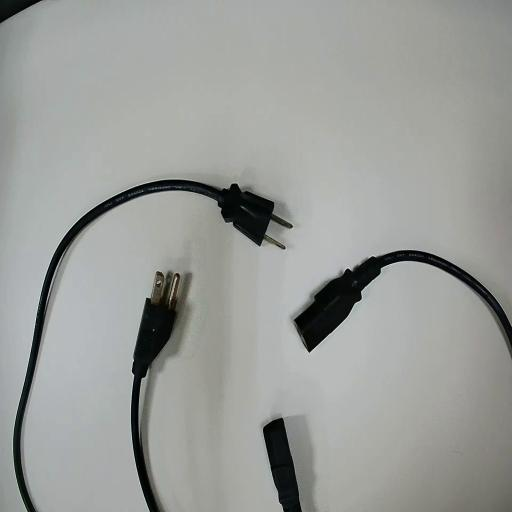wire: (14, 180, 289, 511), (295, 251, 511, 350), (132, 282, 177, 511), (264, 419, 300, 511)
